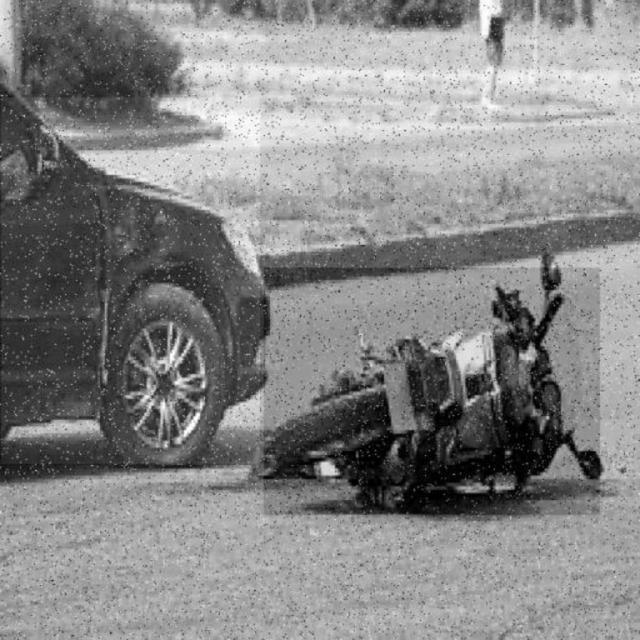vehicle: (2, 98, 260, 464), (264, 267, 600, 515)
